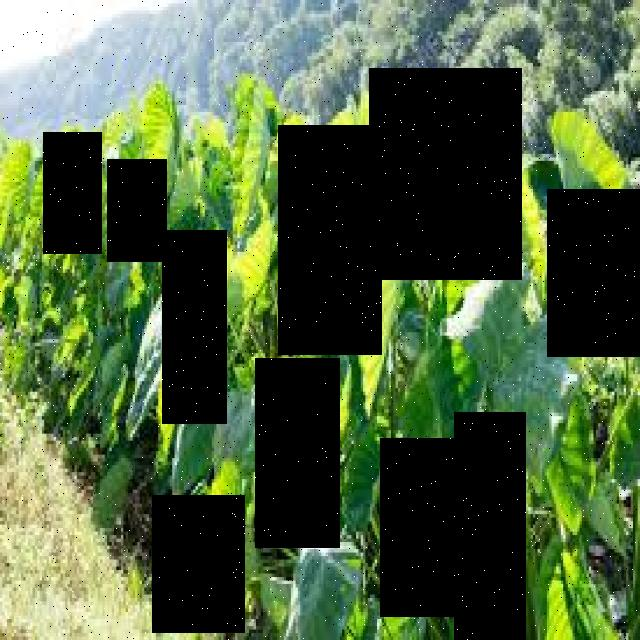Taro_Leaves: (369, 68, 522, 280), (278, 125, 382, 355), (454, 412, 526, 640), (255, 358, 340, 548), (547, 189, 640, 357), (380, 438, 462, 617), (152, 496, 245, 634), (162, 230, 227, 424), (43, 132, 102, 254), (108, 159, 168, 262)
